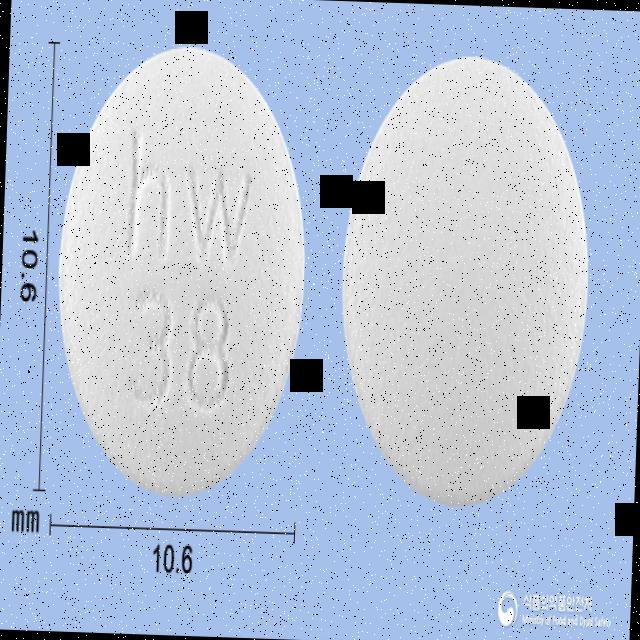Cirokan: (46, 34, 318, 508)
